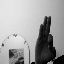f: (34, 15, 57, 63)
